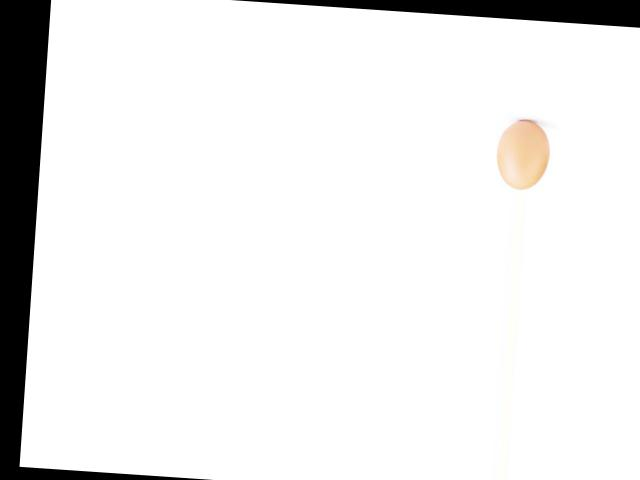egg: (495, 118, 551, 191)
